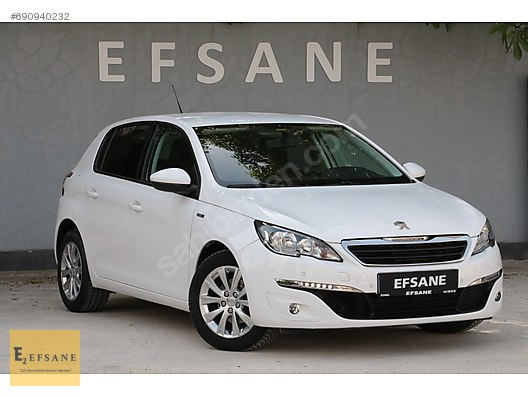peugeot: (54, 112, 506, 354)
